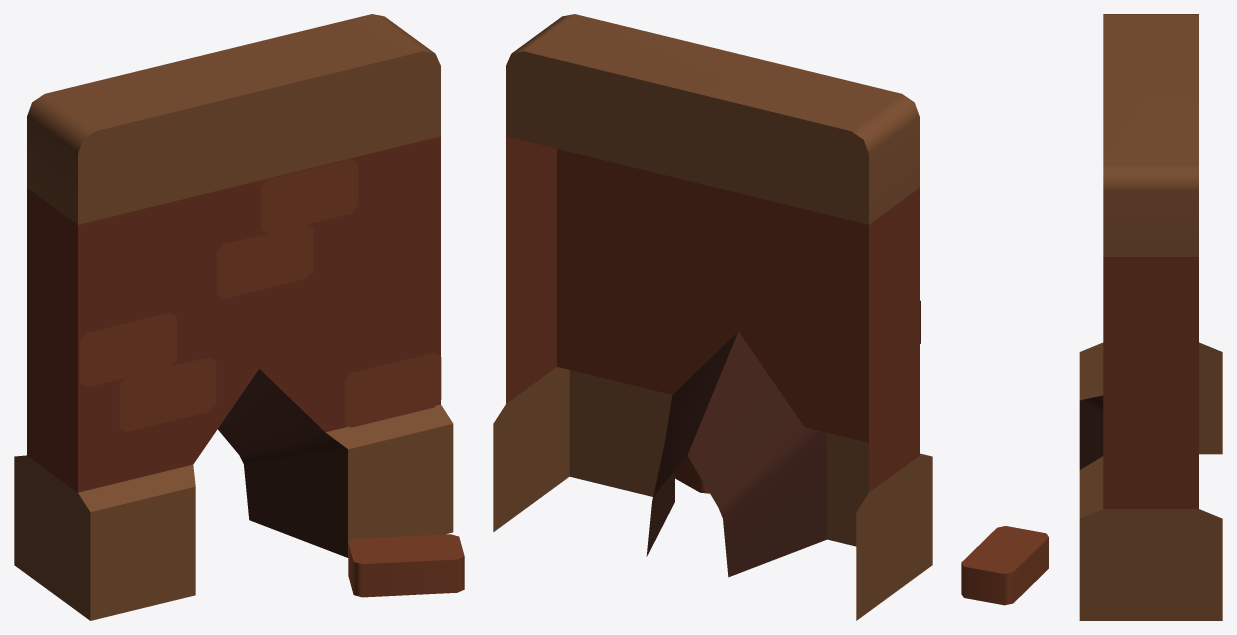
The model's file is BrickHole_Mesh.fbx.
3 views of the same model, side by side, from view 1: azimuth 30°, elevation 25°; view 2: azimuth 150°, elevation 25°; view 3: azimuth 270°, elevation 25° (orthographic). The views are drawn at different scales.
Visible parts, largest first — view 1: BrickHole_Mesh; view 2: BrickHole_Mesh; view 3: BrickHole_Mesh.
Boxes of the visible parts, bbox=[...] form: BrickHole_Mesh: bbox=[14, 14, 464, 620]; BrickHole_Mesh: bbox=[493, 14, 932, 620]; BrickHole_Mesh: bbox=[961, 14, 1222, 620].
Size of the model in its own units: 100 by 125 by 66.35.
